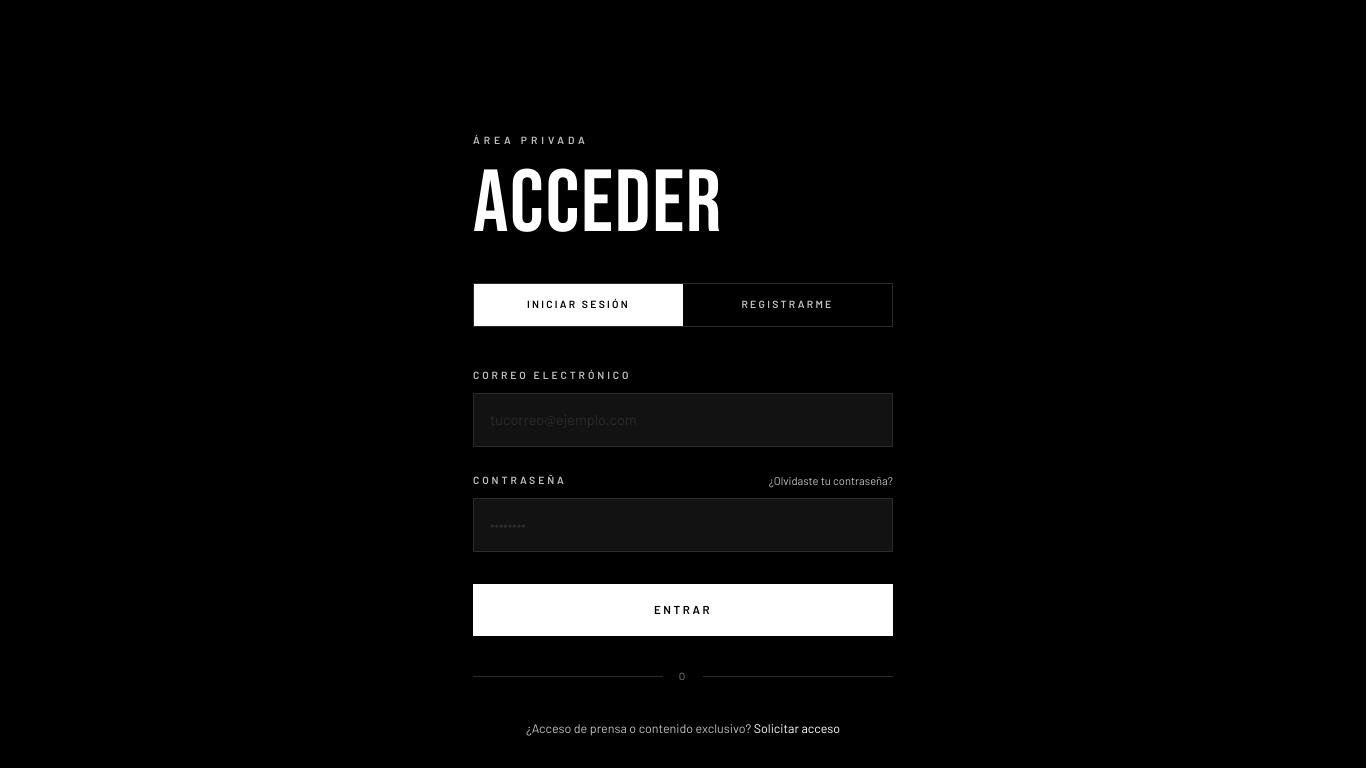
Test case: Login › abre el modal de recuperación al hacer click en '¿Olvidaste tu contraseña?'
Click the button "¿Olvidaste tu contraseña?". click: (831, 480)
box: [769,471,893,490]
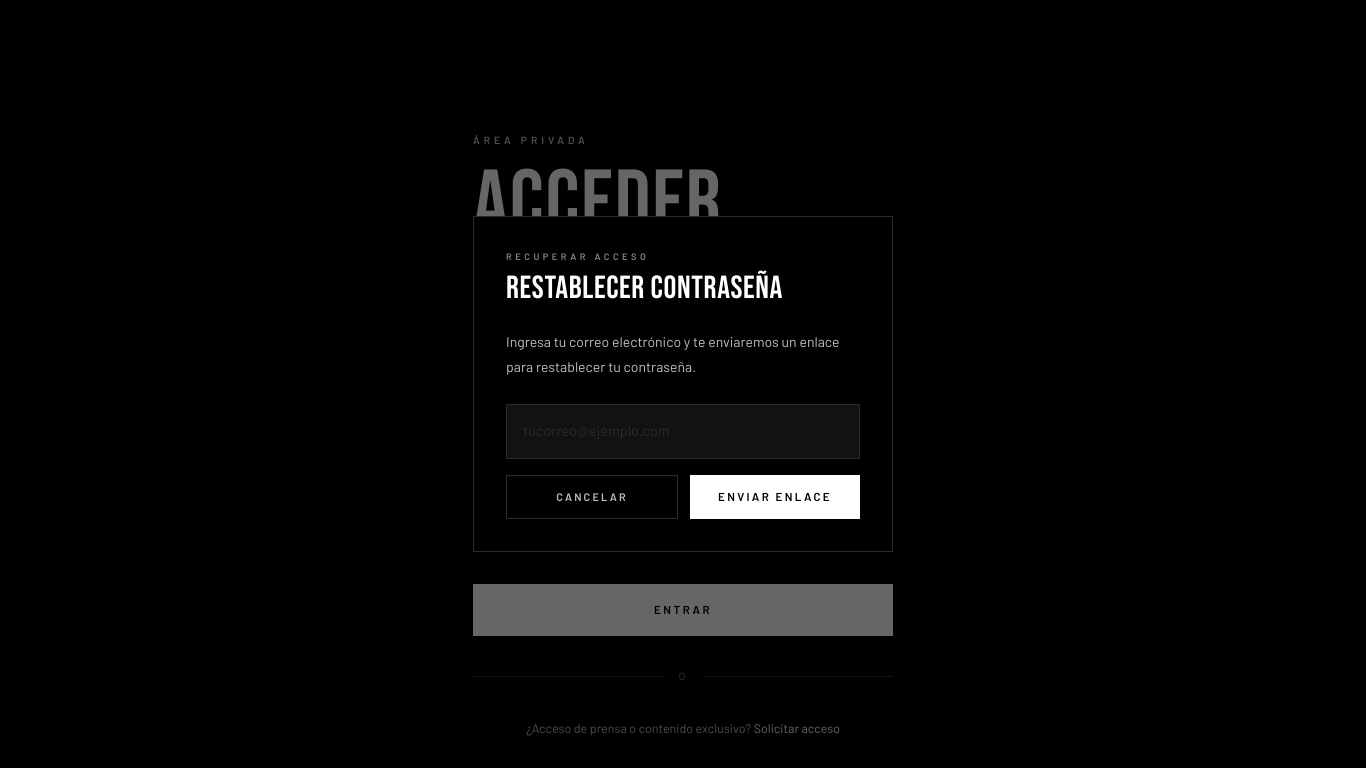
Result: the heading "Restablecer contraseña" is shown at [506,268,783,308]
